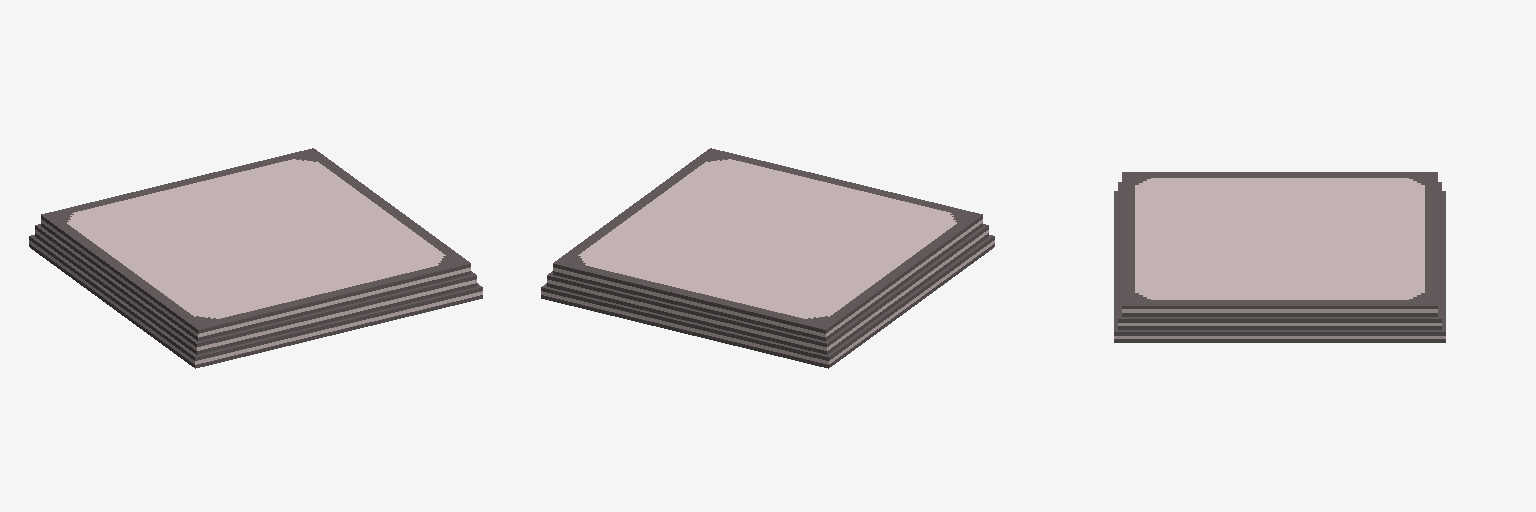
The picture shows the model from 3 angles: view 1: azimuth 30°, elevation 25°; view 2: azimuth 150°, elevation 25°; view 3: azimuth 270°, elevation 25°; orthographic projection.
Bounding box in the file's own units: 80 × 9 × 80.
Materials: 1 (1 with a texture image).